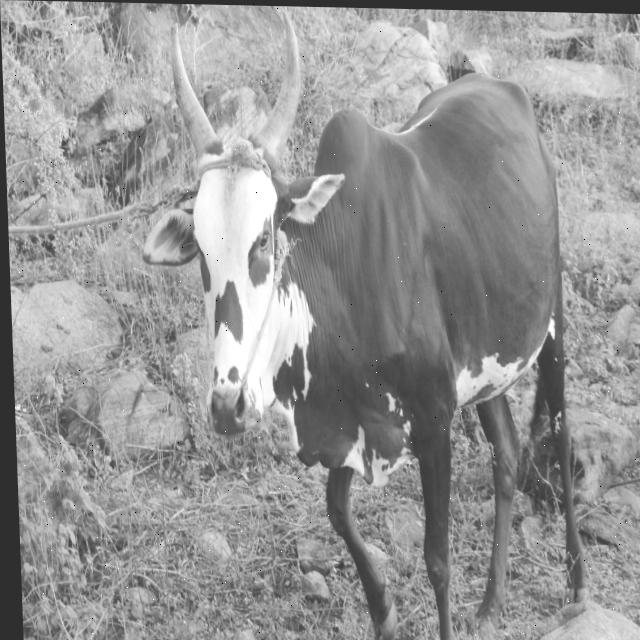Cow: (131, 6, 593, 640)
